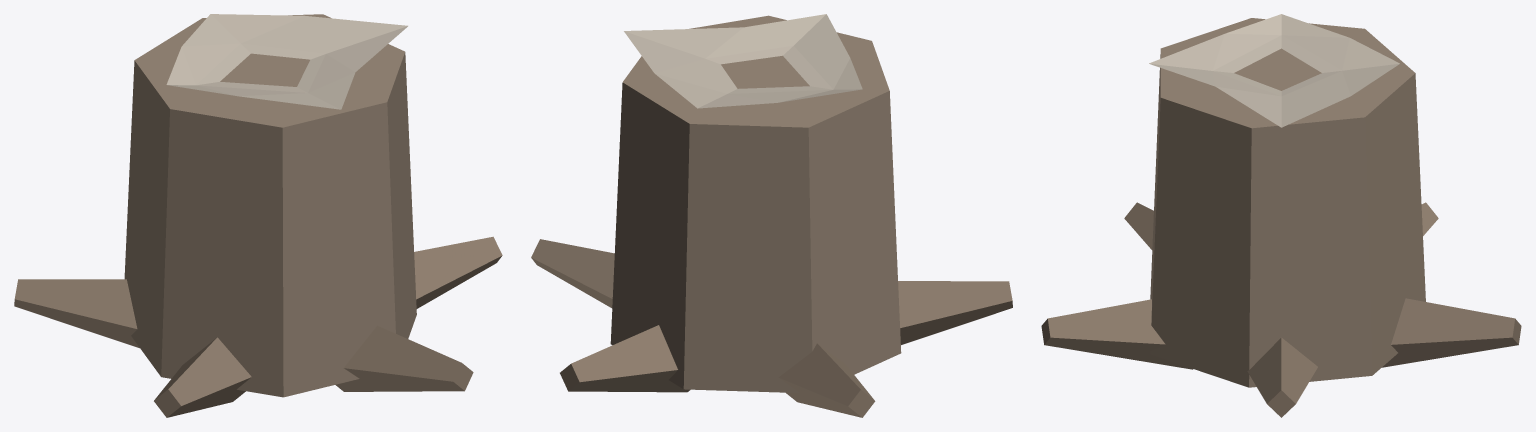
The model's file is stump_v29.glb.
The picture shows the model from 3 angles, left to right: view 1: azimuth 30°, elevation 25°; view 2: azimuth 150°, elevation 25°; view 3: azimuth 270°, elevation 25°; orthographic projection. The views are drawn at different scales.
Parts seen in each view (by area): view 1: lod0; view 2: lod0; view 3: lod0.
Part boxes in pixels (x1,y1,x2,y2): lod0: [14, 14, 502, 417]; lod0: [531, 14, 1012, 417]; lod0: [1041, 14, 1521, 417].
Size of what is drawn, in the model's own units: 0.8812 by 0.6511 by 0.9227.
